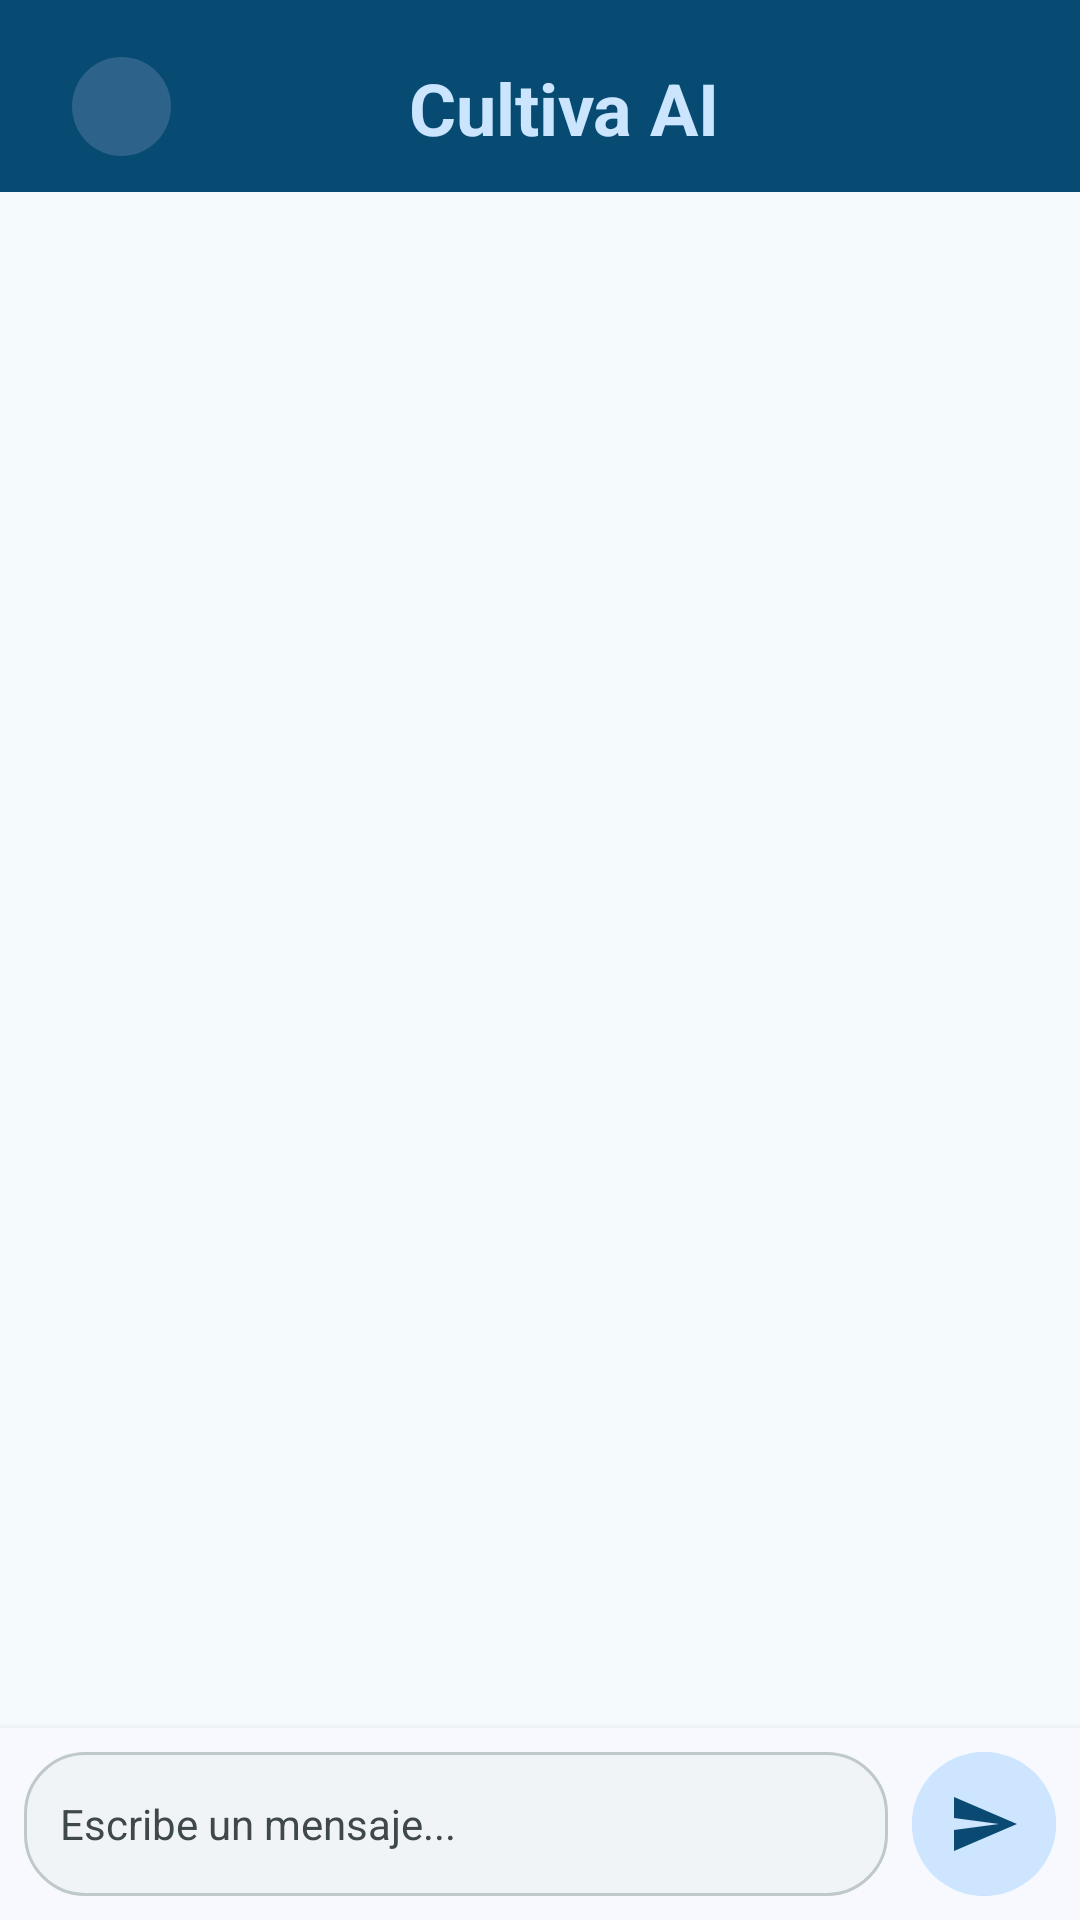

Screen size 1080×1920. Icon name, then its box in pixels as (left=x1, top=y1, right=x2, bottom=y2):
send: (left=912, top=1752, right=1056, bottom=1896)
